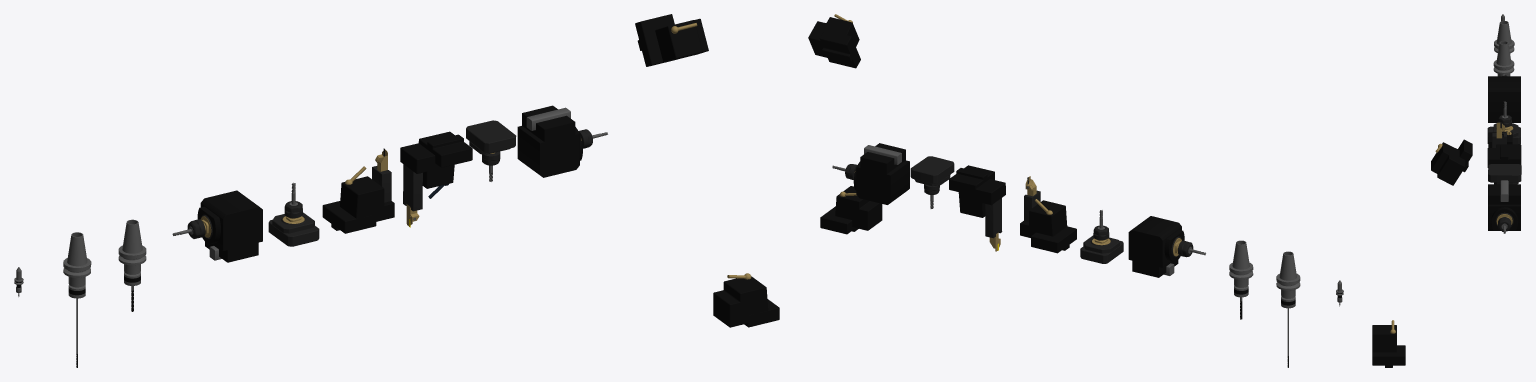
File: 刀具ALL.FBX
3 views of the same model, side by side, from view 1: azimuth 30°, elevation 25°; view 2: azimuth 150°, elevation 25°; view 3: azimuth 270°, elevation 25° (orthographic). The views are drawn at different scales.
Visible parts, largest first — view 1: 下刀塔_外徑掃刀+六角面铣刀_刀座001, 上刀塔_外徑掃刀+六角面铣刀座001, 下刀塔_切斷刀001, 上刀塔_切斷刀001, 上刀塔_一般刀具底座001, 下刀塔_一般刀具底座001, 铣床_深孔鑽刀001, 铣床_淺孔鑽刀001, 下刀塔_飛機翼曲面铣刀座001, 上刀塔_飛機翼曲面铣刀座001; view 2: 下刀塔_外徑掃刀+六角面铣刀_刀座001, 上刀塔_外徑掃刀+六角面铣刀座001, 下刀塔_切斷刀001, 上刀塔_切斷刀001, 上刀塔_一般刀具底座001, 下刀塔_一般刀具底座001, 铣床_深孔鑽刀001, 铣床_淺孔鑽刀001, 下刀塔_飛機翼曲面铣刀座001, 上刀塔_飛機翼曲面铣刀座001; view 3: 下刀塔_外徑掃刀+六角面铣刀_刀座001, 上刀塔_外徑掃刀+六角面铣刀座001, 上刀塔_一般刀具底座001, 下刀塔_一般刀具底座001, 下刀塔_飛機翼曲面铣刀座001, 下刀塔_切斷刀001, 铣床_淺孔鑽刀001, 上刀塔_切斷刀001, 铣床_深孔鑽刀001, 上刀塔_飛機翼曲面铣刀座001, 上刀塔_飛機翼曲面铣刀001, 下刀塔_外徑掃刀+六角面铣刀001.
Part boxes in pixels (left/top/right/bottom): 下刀塔_外徑掃刀+六角面铣刀_刀座001: left=517, top=105, right=582, bottom=177; 上刀塔_外徑掃刀+六角面铣刀座001: left=197, top=190, right=262, bottom=262; 下刀塔_切斷刀001: left=400, top=131, right=472, bottom=227; 上刀塔_切斷刀001: left=322, top=148, right=394, bottom=233; 上刀塔_一般刀具底座001: left=635, top=14, right=708, bottom=66; 下刀塔_一般刀具底座001: left=713, top=273, right=779, bottom=327; 铣床_深孔鑽刀001: left=63, top=232, right=91, bottom=367; 铣床_淺孔鑽刀001: left=118, top=219, right=146, bottom=311; 下刀塔_飛機翼曲面铣刀座001: left=466, top=120, right=516, bottom=154; 上刀塔_飛機翼曲面铣刀座001: left=268, top=212, right=319, bottom=246; 下刀塔_外徑掃刀+六角面铣刀_刀座001: left=853, top=143, right=909, bottom=204; 上刀塔_外徑掃刀+六角面铣刀座001: left=1128, top=216, right=1184, bottom=277; 下刀塔_切斷刀001: left=949, top=165, right=1005, bottom=251; 上刀塔_切斷刀001: left=1020, top=176, right=1076, bottom=253; 上刀塔_一般刀具底座001: left=808, top=14, right=860, bottom=68; 下刀塔_一般刀具底座001: left=820, top=186, right=882, bottom=234; 铣床_深孔鑽刀001: left=1276, top=251, right=1300, bottom=367; 铣床_淺孔鑽刀001: left=1229, top=240, right=1253, bottom=319; 下刀塔_飛機翼曲面铣刀座001: left=910, top=156, right=954, bottom=186; 上刀塔_飛機翼曲面铣刀座001: left=1080, top=235, right=1123, bottom=263; 下刀塔_外徑掃刀+六角面铣刀_刀座001: left=1488, top=180, right=1520, bottom=230; 上刀塔_外徑掃刀+六角面铣刀座001: left=1488, top=76, right=1520, bottom=122; 上刀塔_一般刀具底座001: left=1431, top=139, right=1472, bottom=185; 下刀塔_一般刀具底座001: left=1372, top=320, right=1405, bottom=367; 下刀塔_飛機翼曲面铣刀座001: left=1488, top=164, right=1521, bottom=184; 下刀塔_切斷刀001: left=1487, top=144, right=1520, bottom=167; 铣床_淺孔鑽刀001: left=1493, top=41, right=1514, bottom=76; 上刀塔_切斷刀001: left=1488, top=122, right=1521, bottom=164; 铣床_深孔鑽刀001: left=1494, top=20, right=1514, bottom=53; 上刀塔_飛機翼曲面铣刀座001: left=1487, top=123, right=1520, bottom=144; 上刀塔_飛機翼曲面铣刀001: left=1498, top=101, right=1511, bottom=127; 下刀塔_外徑掃刀+六角面铣刀001: left=1498, top=217, right=1511, bottom=233.
Size of the model in its own units: 2060 by 809 by 537.
